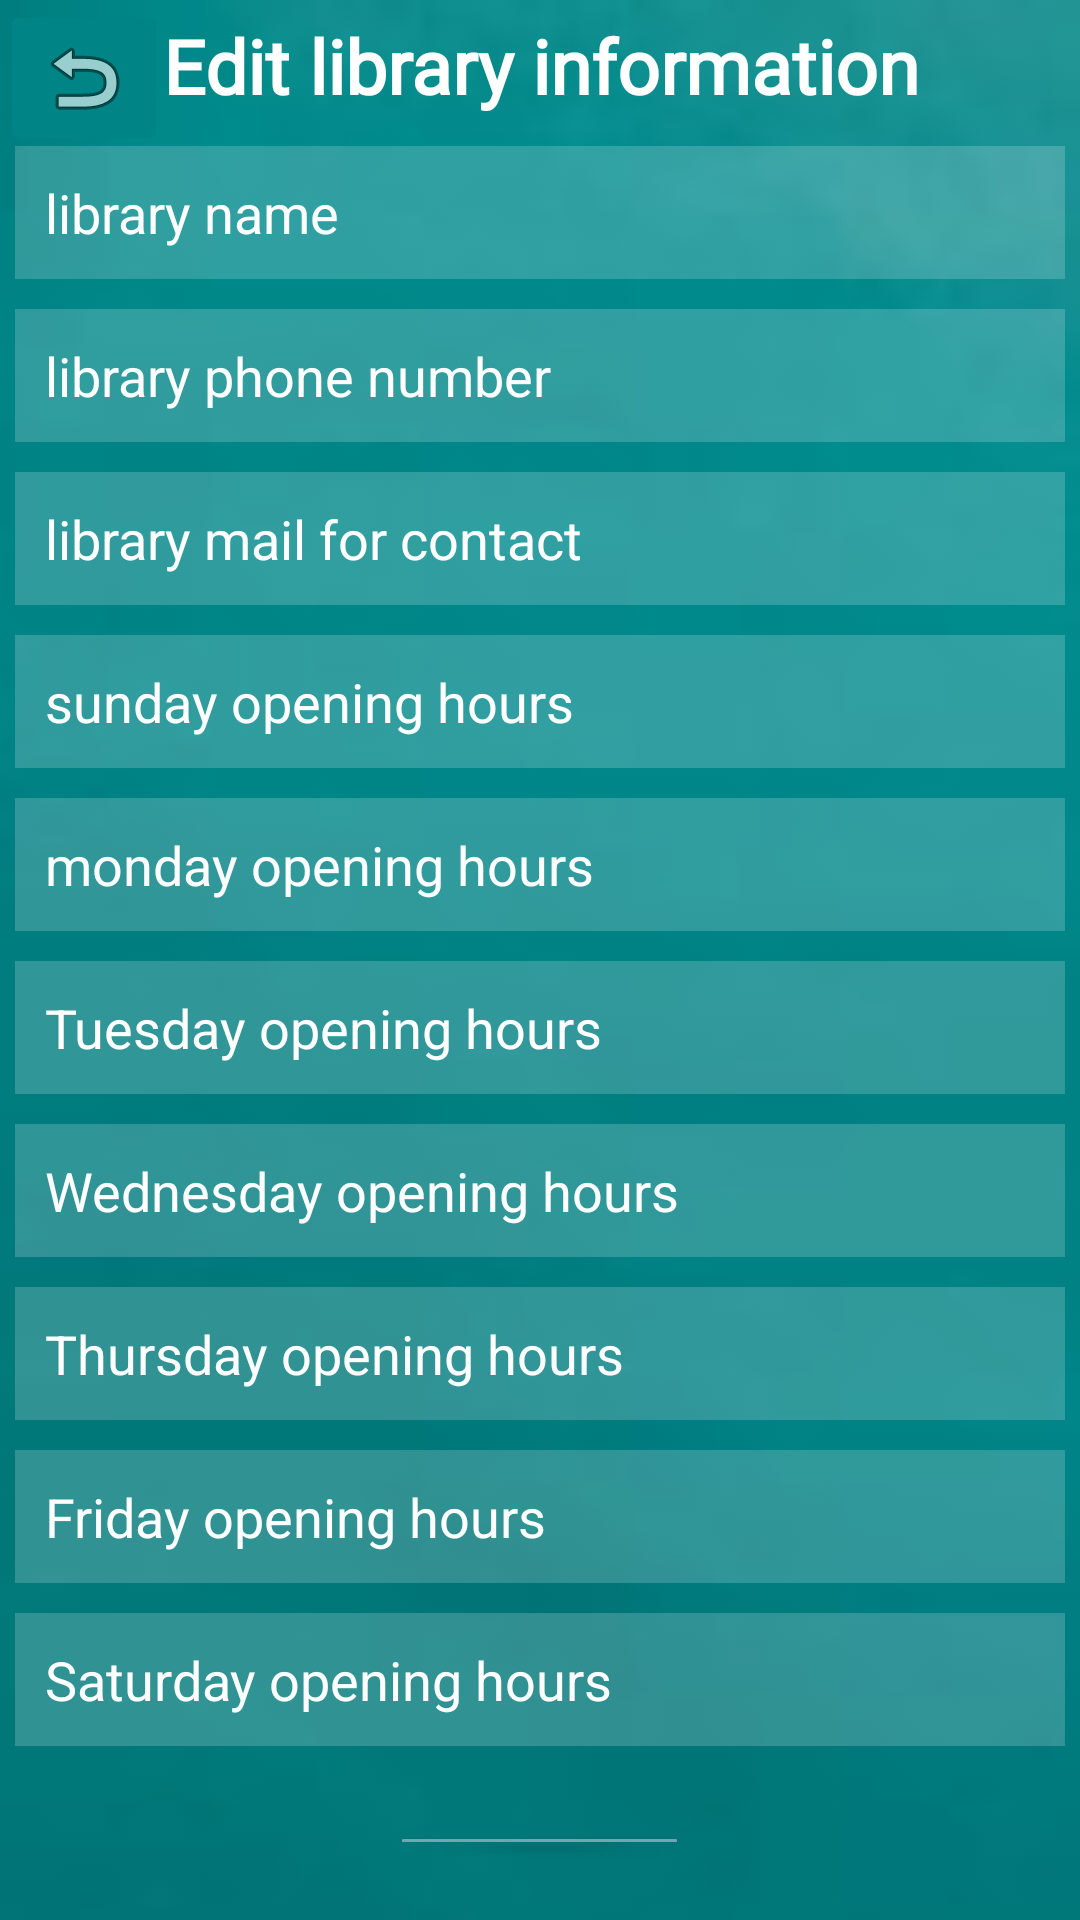

Screen size 1080*1920. Icon name, then its center in pixels as (x,y):
revert: (84,78)
